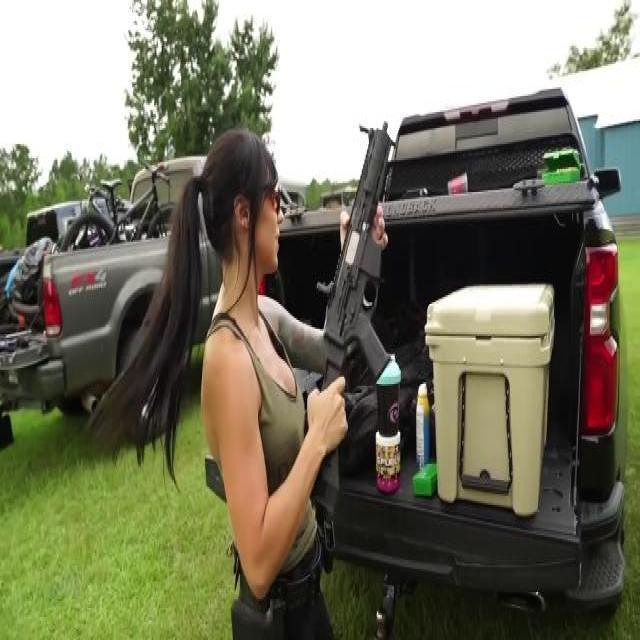pistol: (303, 116, 410, 520)
